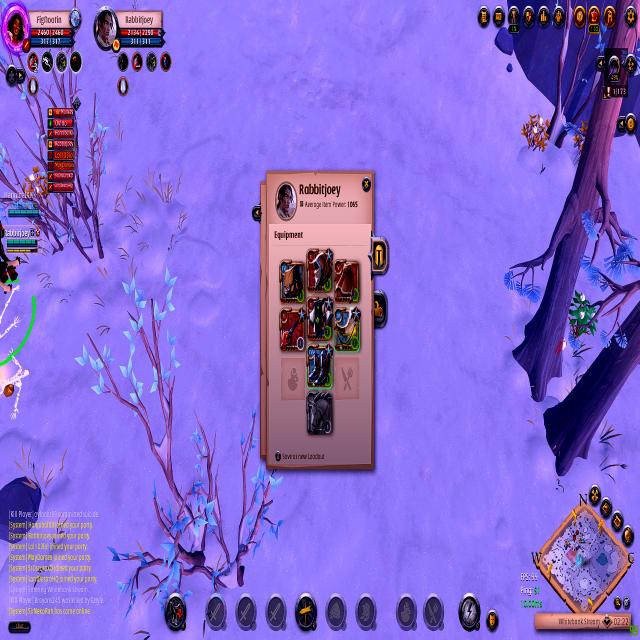hide: (567, 278, 599, 350), (518, 108, 554, 162), (22, 164, 50, 216)
red: (0, 184, 48, 222), (0, 223, 48, 257)
